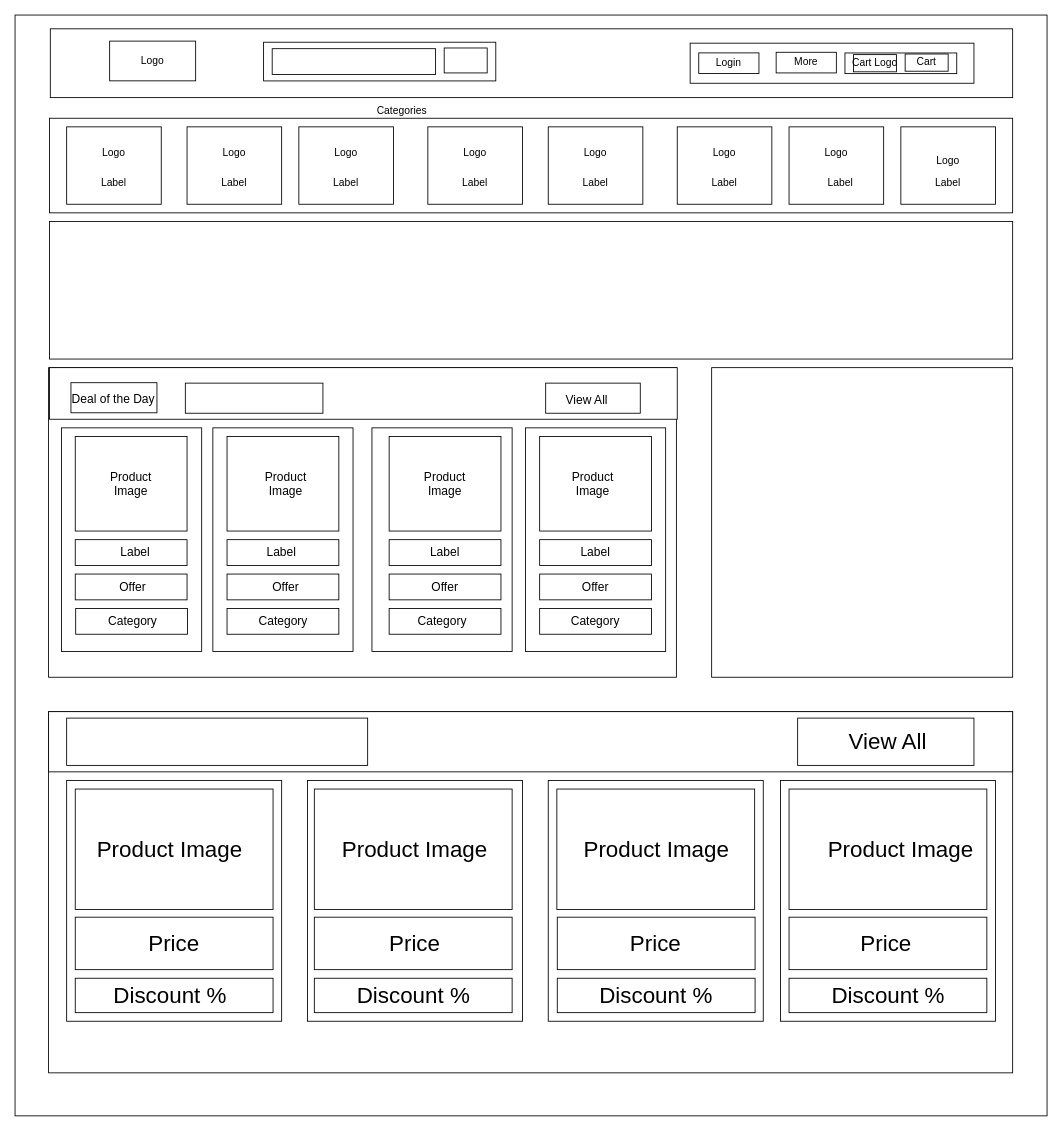
Some shapes in this 1062 by 1131 pixel diagram are drawn without their labels. The shapes that lost their labels are listed below. From the top down, each one's centre as x and y in pixels, then its label:
At point 353,61: "Search Bar".
At point 465,60: "Search Button".
At point 531,290: "Sliding Banner".
At point 253,397: "Countdown Timer".
At point 862,522: "Ad Banner".
At point 217,741: "Recommended Items".
